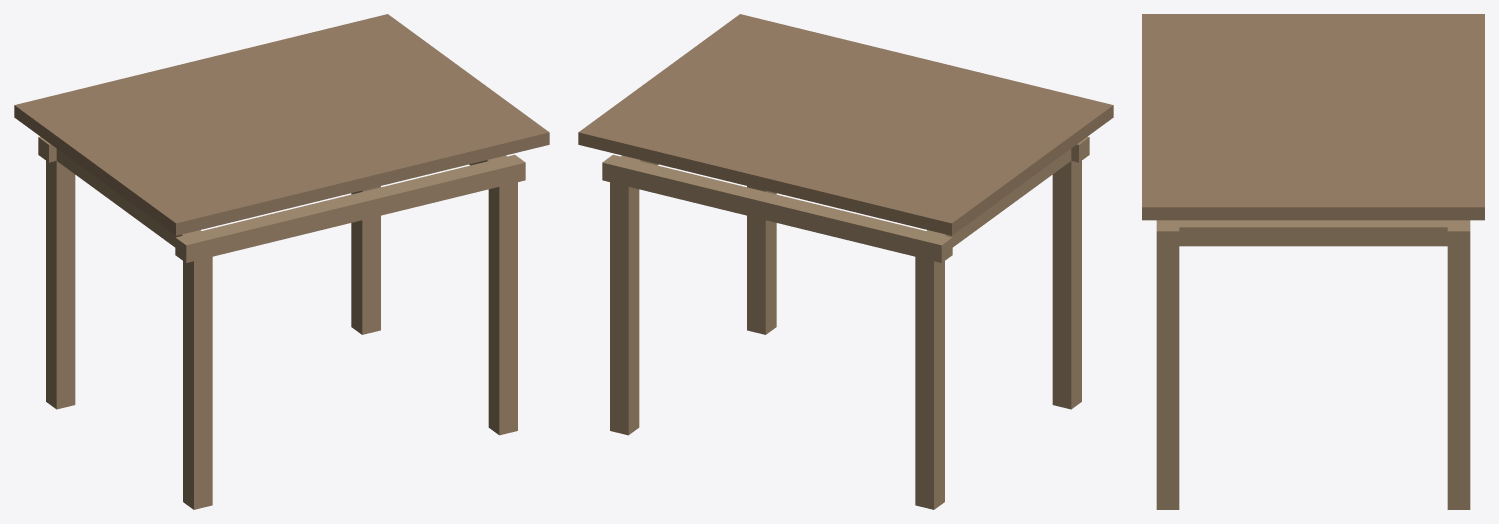
File: hut_frame_large.glb
3 views of the same model, side by side, from view 1: azimuth 30°, elevation 25°; view 2: azimuth 150°, elevation 25°; view 3: azimuth 270°, elevation 25° (orthographic). The views are drawn at different scales.
Parts seen in each view (by area): view 1: world; view 2: world; view 3: world.
Part boxes in pixels (<box>): world: <box>14,14,549,509</box>; world: <box>578,14,1113,509</box>; world: <box>1142,14,1484,509</box>.
Size of the model in its own units: 4.4 by 3.35 by 3.3.
